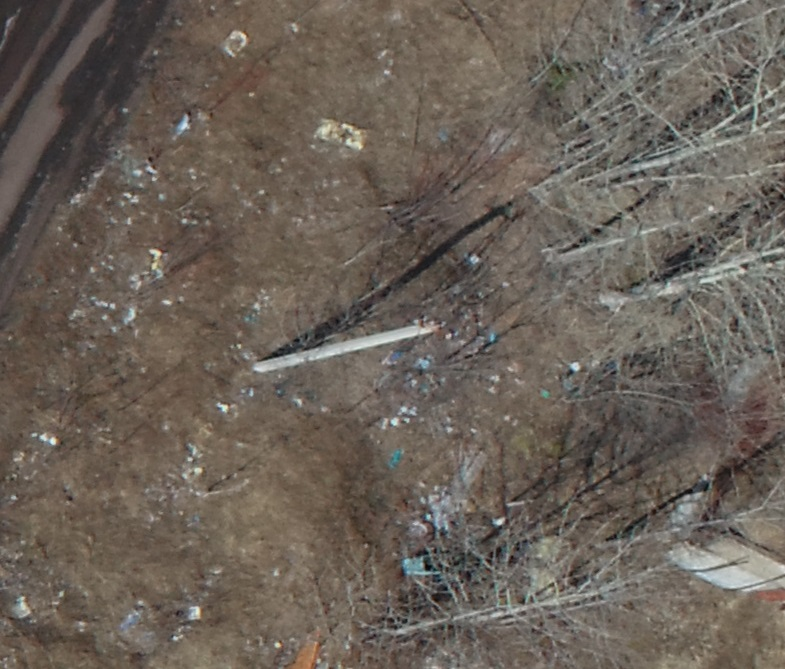opora: (250, 287, 451, 375)
